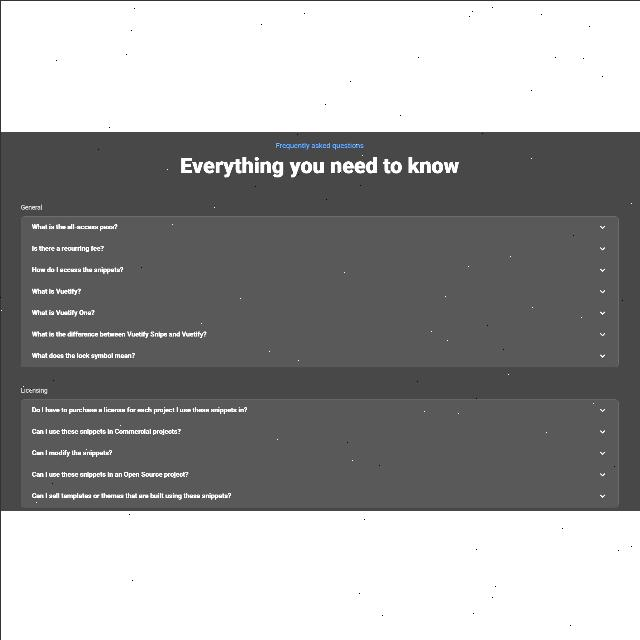QLabel: (178, 154, 460, 176), (274, 140, 364, 148), (17, 386, 48, 392), (18, 202, 42, 208)
VExpansionPanel: (20, 484, 618, 508), (20, 344, 618, 366), (20, 418, 616, 439), (20, 215, 618, 235), (20, 236, 618, 256), (20, 462, 618, 482), (19, 257, 616, 277), (19, 278, 616, 298), (19, 300, 616, 320), (20, 398, 616, 418), (20, 322, 616, 342), (19, 442, 616, 461)
